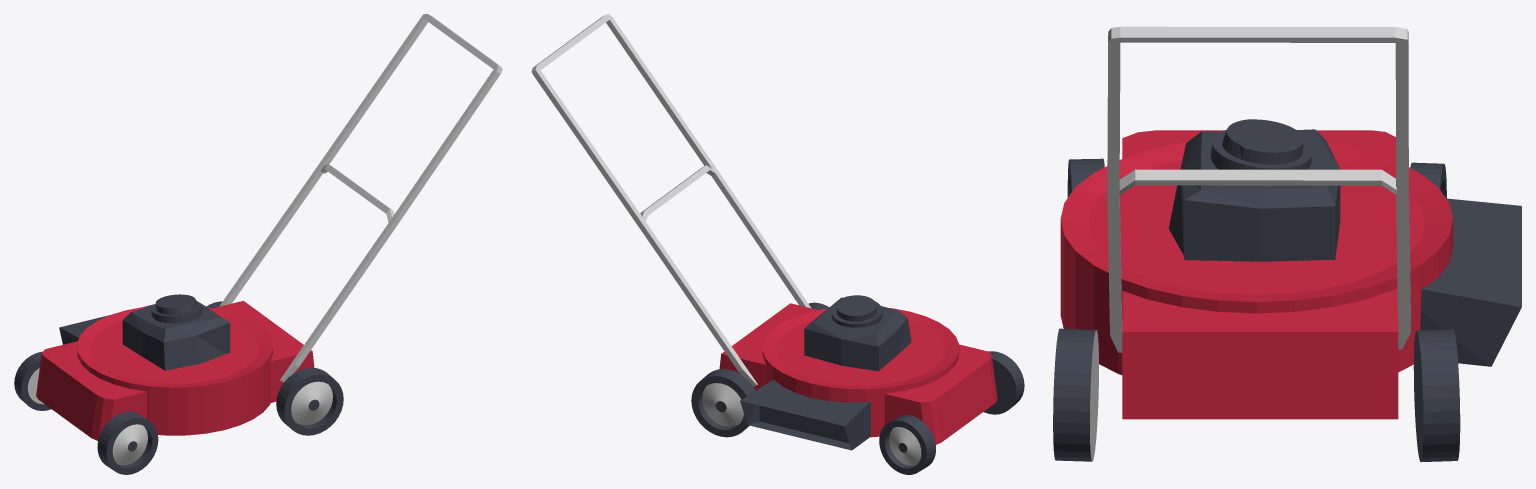
Rendered from LawnMower.dae.
3 renders of one model, left to right at view 1: azimuth 30°, elevation 25°; view 2: azimuth 150°, elevation 25°; view 3: azimuth 270°, elevation 25°, orthographic. The views are drawn at different scales.
Parts seen in each view (by area): view 1: __Main_Cricle, __Handles, __Frame, __Main_Motor, __wheel_F_Left_001, __wheel_F_Left, __Motor, __wheel_F_Left_002, __Blower; view 2: __Main_Cricle, __Handles, __Frame, __Blower, __Main_Motor, __wheel_F_Left_003, __wheel_F_Left_002, __wheel_F_Left, __Motor; view 3: __Main_Cricle, __Frame, __Handles, __Main_Motor, __Blower, __wheel_F_Left_003, __wheel_F_Left_001, __Motor, __wheel_F_Left, __wheel_F_Left_002.
Boxes of the visible parts, x1,y1,x2,y2 form: __Main_Cricle: (77,306,272,435); __Handles: (219,14,502,382); __Frame: (36,301,314,440); __Main_Motor: (122,300,230,370); __wheel_F_Left_001: (276,367,343,435); __wheel_F_Left: (97,411,158,474); __Motor: (151,294,201,323); __wheel_F_Left_002: (14,351,51,410); __Blower: (59,304,154,344); __Main_Cricle: (762,308,959,437); __Handles: (531,14,810,386); __Frame: (719,303,997,444); __Blower: (740,379,870,450); __Main_Motor: (804,297,911,371); __wheel_F_Left_003: (691,369,755,437); __wheel_F_Left_002: (879,415,935,474); __wheel_F_Left: (984,351,1024,414); __Motor: (831,295,882,327); __Main_Cricle: (1060,141,1453,374); __Frame: (1122,130,1398,419); __Handles: (1107,26,1410,352); __Main_Motor: (1168,129,1340,261); __Blower: (1420,198,1521,366); __wheel_F_Left_003: (1413,329,1460,461); __wheel_F_Left_001: (1053,328,1098,461); __Motor: (1210,119,1312,169); __wheel_F_Left: (1067,158,1104,197); __wheel_F_Left_002: (1410,162,1446,198).
Bounding box in the file's own units: 8.42 × 4.18 × 6.12.
